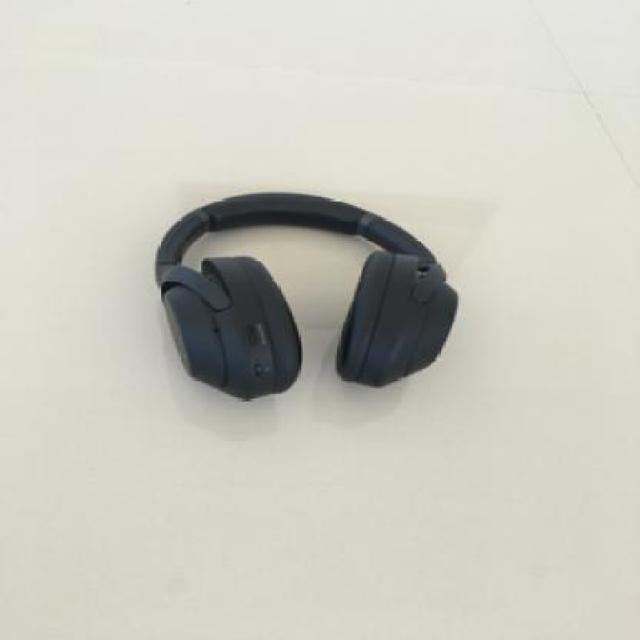earphone: (108, 102, 507, 418)
